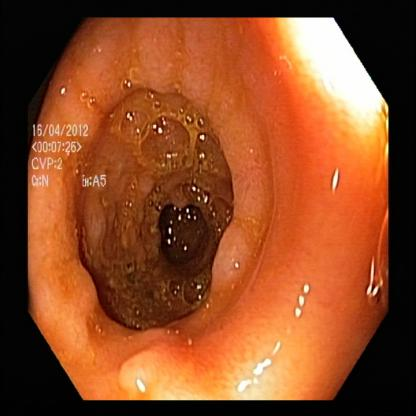Labels: (27, 121, 117, 192)
Polyps: (207, 207, 258, 293)
